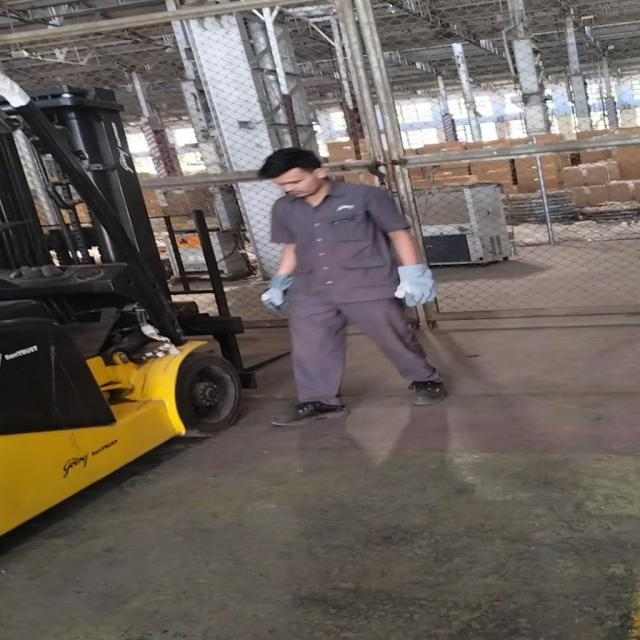Gloves-Detection: (391, 261, 436, 312), (257, 274, 292, 306)
